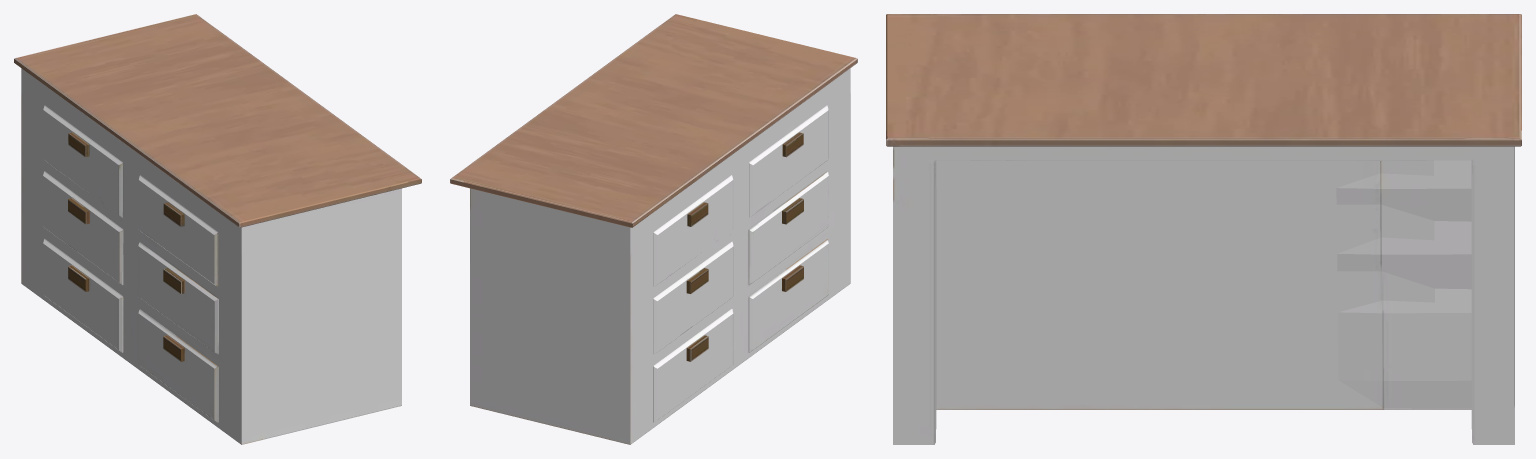
File: island-counter.lod0.glb
3 renders of one model, left to right at view 1: azimuth 30°, elevation 25°; view 2: azimuth 150°, elevation 25°; view 3: azimuth 270°, elevation 25°, orthographic. The views are drawn at different scales.
Visible parts, largest first — view 1: Island_Island_Baked_0; view 2: Island_Island_Baked_0; view 3: Island_Island_Baked_0.
Boxes of the visible parts, x1=… form: Island_Island_Baked_0: x1=14, y1=14, x2=421, y2=444; Island_Island_Baked_0: x1=450, y1=14, x2=857, y2=444; Island_Island_Baked_0: x1=886, y1=14, x2=1521, y2=444.
Size of the model in its own units: 0.79 by 0.92 by 1.67.
Materials: 1 (1 with a texture image).
